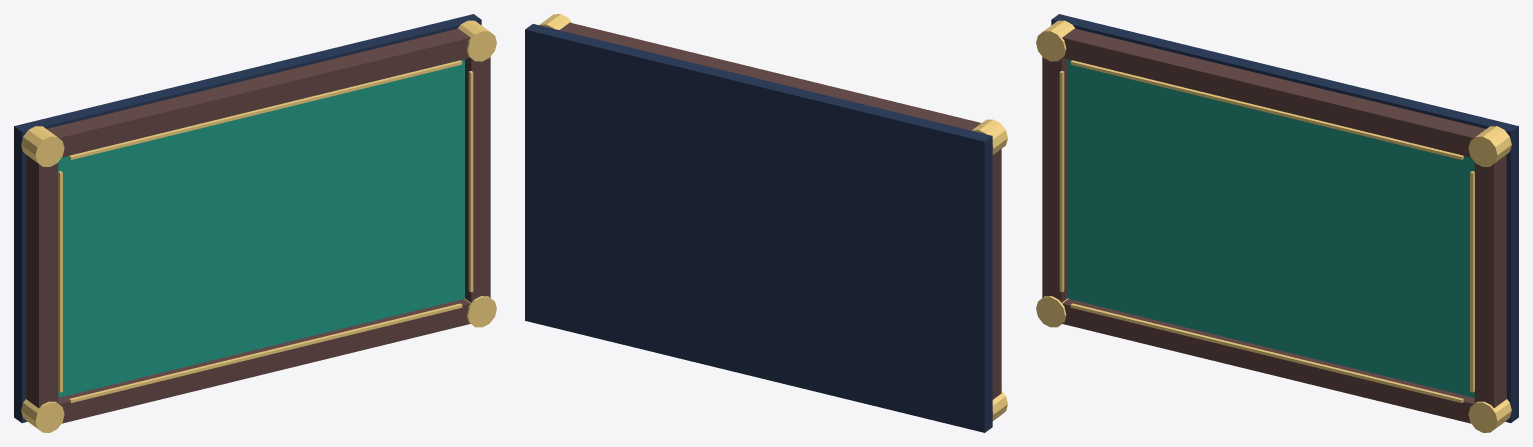
File: table_emerald.glb
3 renders of one model, left to right at view 1: azimuth 30°, elevation 25°; view 2: azimuth 150°, elevation 25°; view 3: azimuth 330°, elevation 25°, orthographic.
Parts seen in each view (by area): view 1: felt_surface, frame_top, frame_bottom, table_underbody, frame_left, frame_right, accent_top, accent_bottom, accent_right, corner_-5.36_3.15, accent_left, corner_-5.36_-3.15 (+2 smaller); view 2: table_underbody, frame_top, frame_left, corner_-5.36_3.15; view 3: felt_surface, frame_top, frame_bottom, table_underbody, frame_right, frame_left, accent_top, accent_bottom, accent_left, corner_5.36_3.15, accent_right, corner_5.36_-3.15 (+2 smaller).
Part boxes in pixels (box(x1,y1,x2,y2)): felt_surface: box(58, 59, 464, 397); frame_top: box(47, 28, 470, 157); frame_bottom: box(58, 299, 470, 423); table_underbody: box(14, 14, 481, 422); frame_left: box(26, 155, 58, 407); frame_right: box(465, 57, 490, 302); accent_top: box(69, 60, 462, 159); accent_bottom: box(69, 303, 462, 402); accent_right: box(468, 71, 473, 292); corner_-5.36_3.15: box(21, 126, 64, 166); accent_left: box(58, 171, 62, 392); corner_-5.36_-3.15: box(21, 399, 64, 432); table_underbody: box(525, 24, 992, 432); frame_top: box(559, 22, 981, 130); frame_left: box(992, 149, 1001, 399); corner_-5.36_3.15: box(971, 119, 1007, 154); felt_surface: box(1068, 59, 1474, 397); frame_top: box(1062, 28, 1485, 157); frame_bottom: box(1062, 299, 1474, 423); table_underbody: box(1051, 14, 1518, 422); frame_right: box(1474, 155, 1506, 407); frame_left: box(1042, 57, 1067, 302); accent_top: box(1070, 60, 1463, 159); accent_bottom: box(1070, 303, 1463, 402); accent_left: box(1059, 71, 1064, 292); corner_5.36_3.15: box(1468, 126, 1511, 166); accent_right: box(1470, 171, 1474, 392); corner_5.36_-3.15: box(1468, 399, 1511, 432).
Size of the model in its own units: 11.44 by 7.02 by 0.98.
